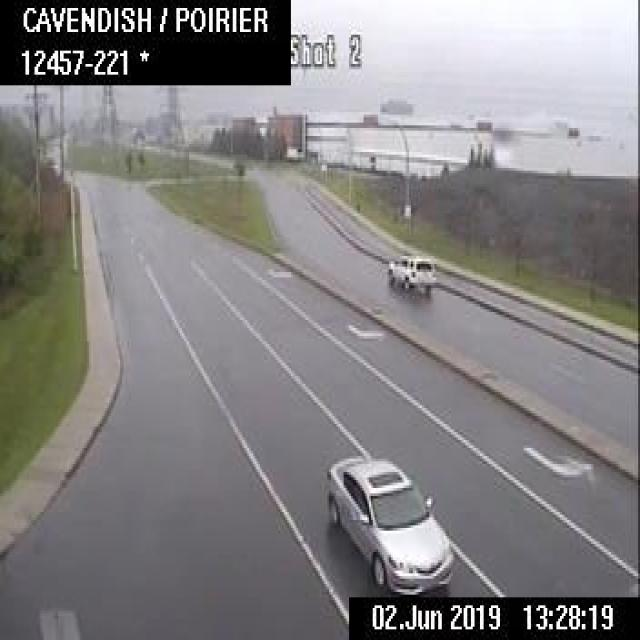vehicle: (324, 448, 454, 595), (386, 250, 435, 292)
